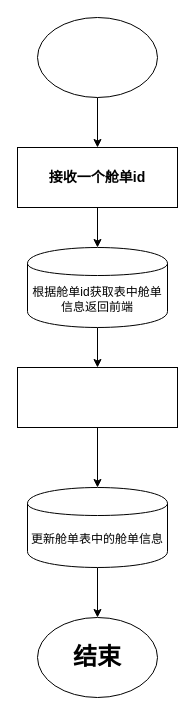
The diagram is 195 pixels wide and 715 high, and some of its shapes have lost their labels. The shapes that lost their labels are listed below. From the top down, each one's box as (x1, y1, x2, y2) in pixels, then its label:
(36, 16, 158, 98): 开始
(16, 366, 178, 428): 接收用户编辑后的舱单信息
